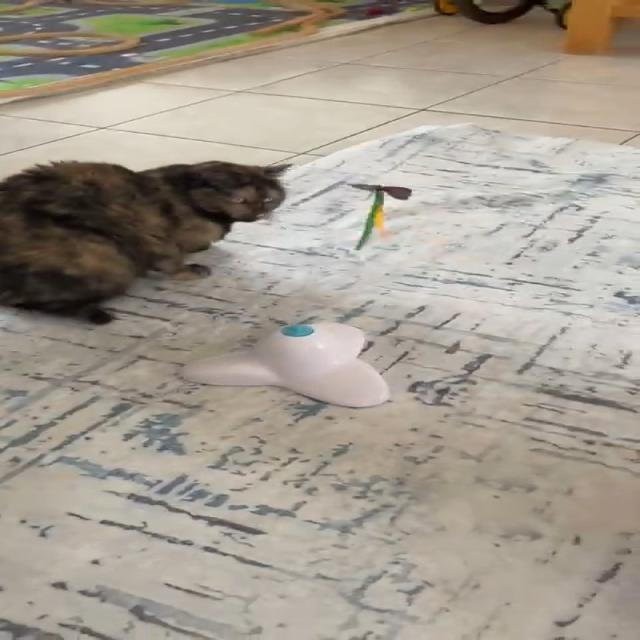authorized: (0, 158, 293, 325)
